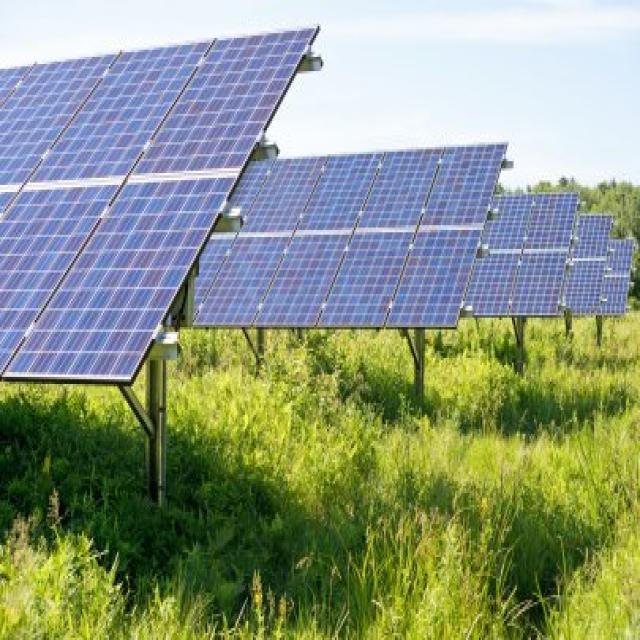dust-solar-panel: (0, 31, 316, 386), (195, 147, 506, 328)
